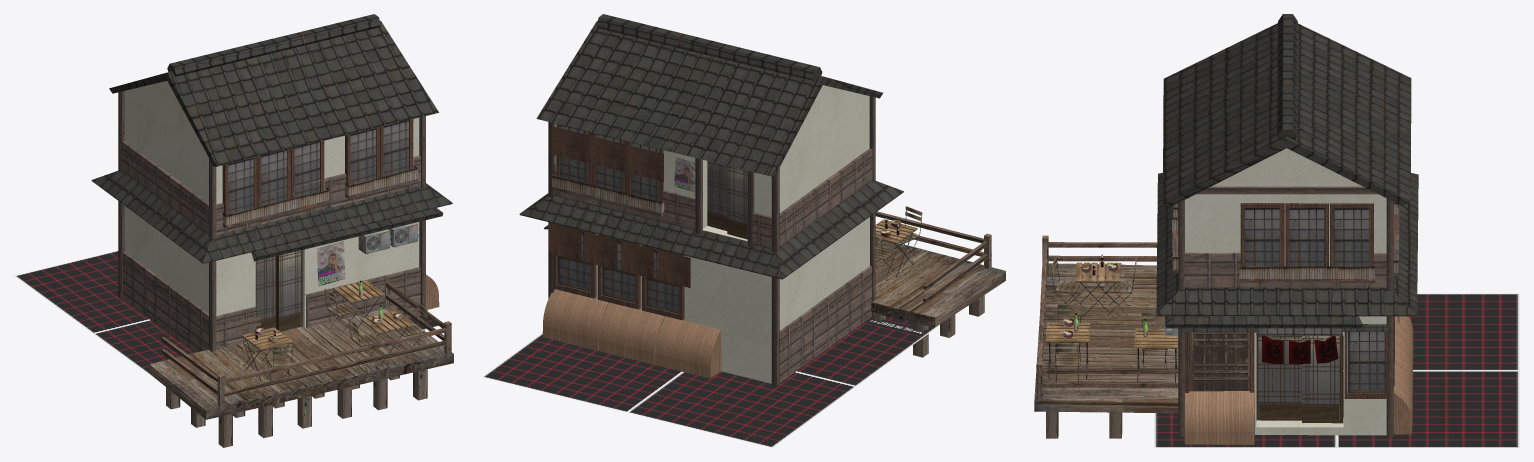
The picture shows the model from 3 angles, left to right: view 1: azimuth 30°, elevation 25°; view 2: azimuth 150°, elevation 25°; view 3: azimuth 270°, elevation 25°; orthographic projection. The views are drawn at different scales.
Visible parts, largest first — view 1: SM_RamenRestaurant_ROOF_0, SM_RamenRestaurant_DETAILS_0, SM_RamenRestaurant_WALLS_0, SM_RamenRestaurant_Material #39_0 (×2), SM_RamenRestaurant_WINDOWS+DOORS_0, floor_grid, SM_TableChairs, SM_Airco_Material #479_0, SM_Airco_Material #478_0; view 2: SM_RamenRestaurant_ROOF_0, SM_RamenRestaurant_DETAILS_0, floor_grid, SM_RamenRestaurant_WALLS_0, SM_RamenRestaurant_Material #39_0 (×2), SM_RamenRestaurant_WINDOWS+DOORS_0, SM_TableChairs; view 3: SM_RamenRestaurant_ROOF_0, SM_RamenRestaurant_DETAILS_0, SM_RamenRestaurant_WINDOWS+DOORS_0, floor_grid, SM_RamenRestaurant_WALLS_0, SM_RamenRestaurant_Material #39_0 (×2), SM_TableChairs, SM_Food+Barrels_Prop_Barrels_0.
Boxes of the visible parts, left/top/right/bottom form: SM_RamenRestaurant_ROOF_0: left=91, top=14, right=452, bottom=263; SM_RamenRestaurant_DETAILS_0: left=149, top=165, right=453, bottom=447; SM_RamenRestaurant_WALLS_0: left=125, top=81, right=419, bottom=326; SM_RamenRestaurant_Material #39_0 (×2): left=118, top=91, right=425, bottom=352; SM_RamenRestaurant_WINDOWS+DOORS_0: left=222, top=119, right=413, bottom=331; floor_grid: left=14, top=250, right=438, bottom=384; SM_TableChairs: left=241, top=280, right=427, bottom=383; SM_Airco_Material #479_0: left=358, top=222, right=418, bottom=254; SM_Airco_Material #478_0: left=367, top=227, right=408, bottom=252; SM_RamenRestaurant_ROOF_0: left=519, top=14, right=903, bottom=279; SM_RamenRestaurant_DETAILS_0: left=542, top=124, right=1005, bottom=378; floor_grid: left=482, top=316, right=939, bottom=447; SM_RamenRestaurant_WALLS_0: left=555, top=85, right=869, bottom=383; SM_RamenRestaurant_Material #39_0 (×2): left=548, top=96, right=875, bottom=386; SM_RamenRestaurant_WINDOWS+DOORS_0: left=553, top=124, right=747, bottom=320; SM_TableChairs: left=875, top=206, right=922, bottom=279; SM_RamenRestaurant_ROOF_0: left=1156, top=14, right=1418, bottom=332; SM_RamenRestaurant_DETAILS_0: left=1034, top=202, right=1413, bottom=444; SM_RamenRestaurant_WINDOWS+DOORS_0: left=1178, top=203, right=1394, bottom=423; floor_grid: left=1154, top=293, right=1519, bottom=447; SM_RamenRestaurant_WALLS_0: left=1185, top=148, right=1386, bottom=435; SM_RamenRestaurant_Material #39_0 (×2): left=1178, top=186, right=1393, bottom=436; SM_TableChairs: left=1045, top=256, right=1178, bottom=388; SM_Food+Barrels_Prop_Barrels_0: left=1062, top=254, right=1147, bottom=338.
Size of the model in its own units: 368 by 348 by 451.
Materials: 11 (11 with a texture image).
